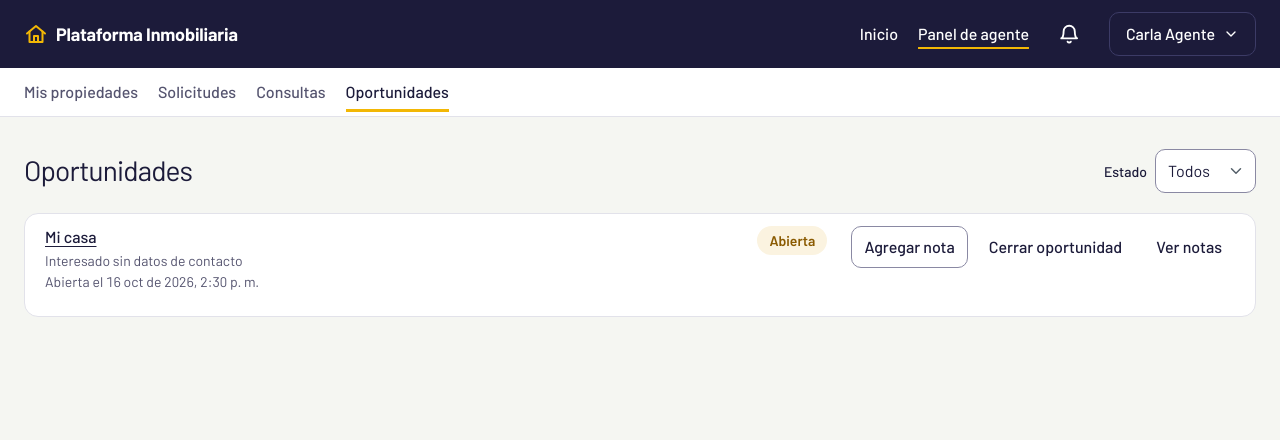
Test case: AgentLeadsPage › shows the follow-up notes when asked, oldest first
Click the button "Ver notas" at (1189, 247), box [1143,226,1235,268]
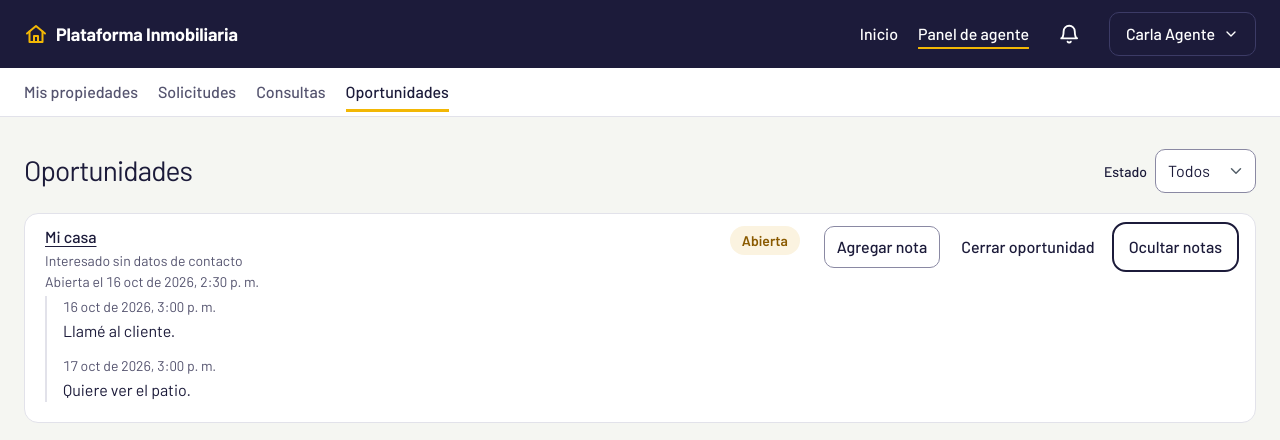
Result: the list item "16 oct de 2026, 3:00 p. m. Llamé al cliente." is shown at [63,298,216,340]
Result: the list item "17 oct de 2026, 3:00 p. m. Quiere ver el patio." is shown at [63,357,216,399]
